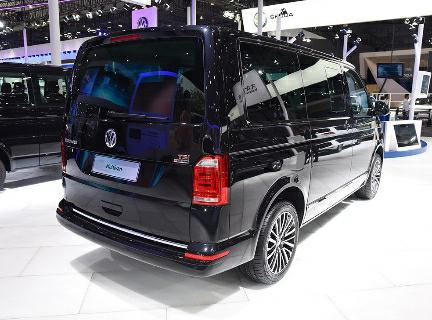大众-迈特威: (52, 21, 395, 287)
